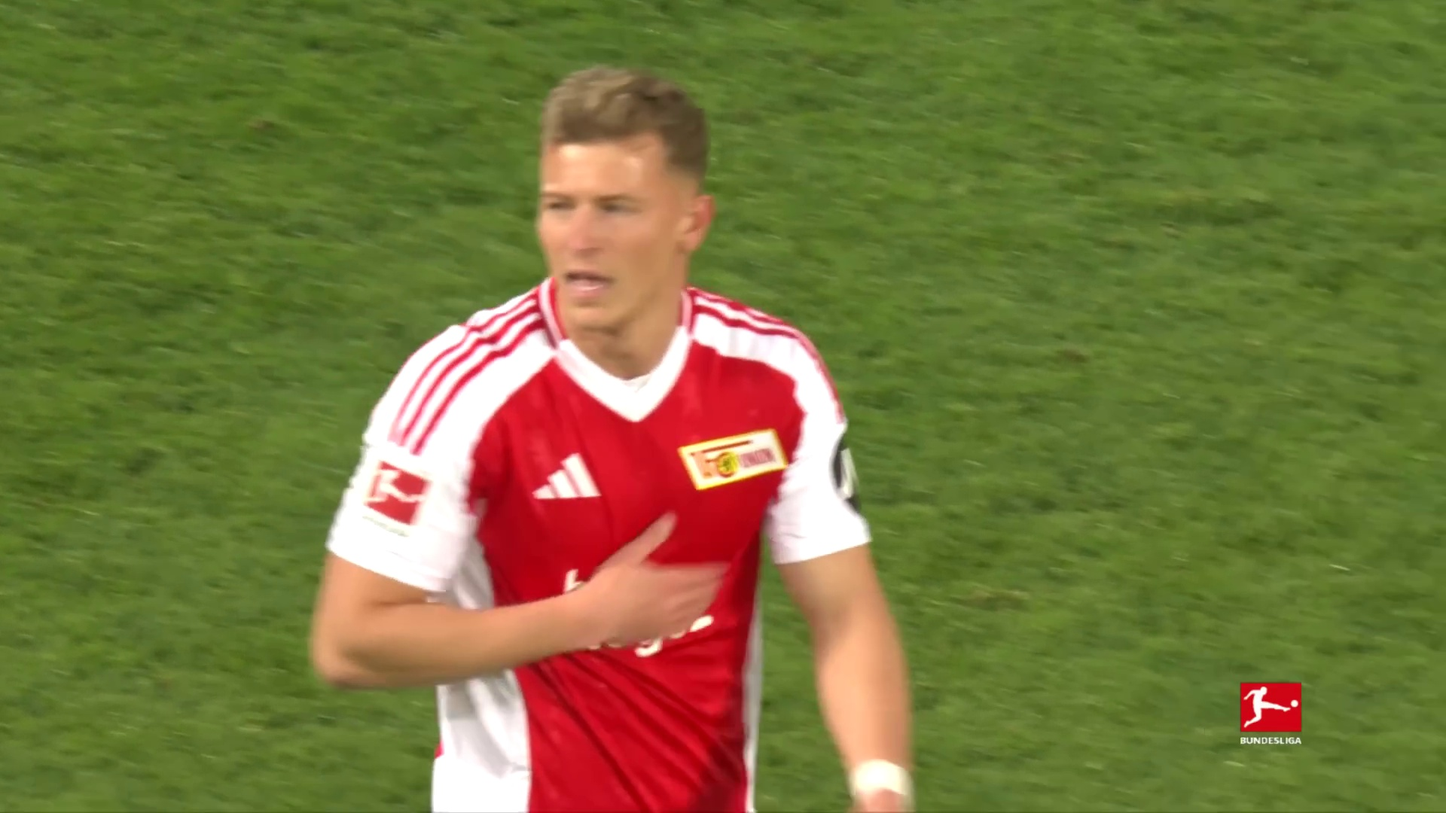player: (307, 61, 938, 813)
